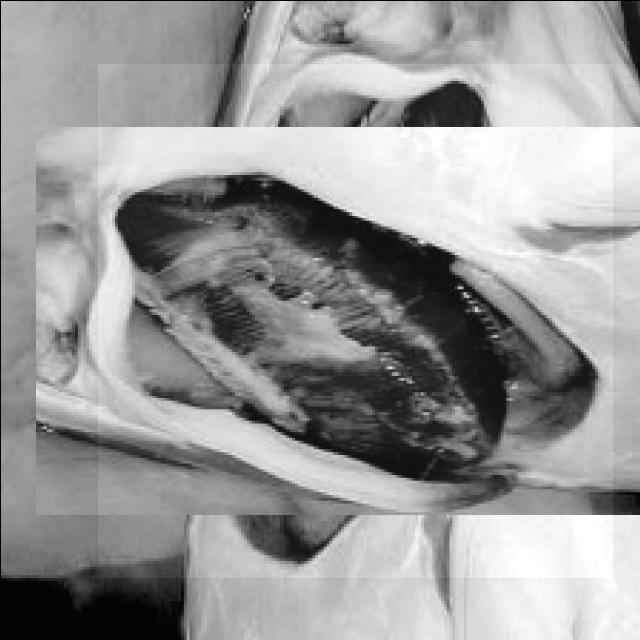Gill Disease: (97, 63, 612, 577)
